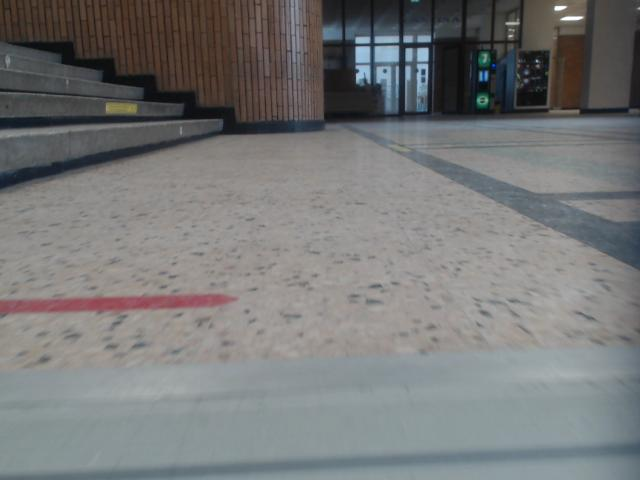rampDown: (0, 347, 639, 479)
